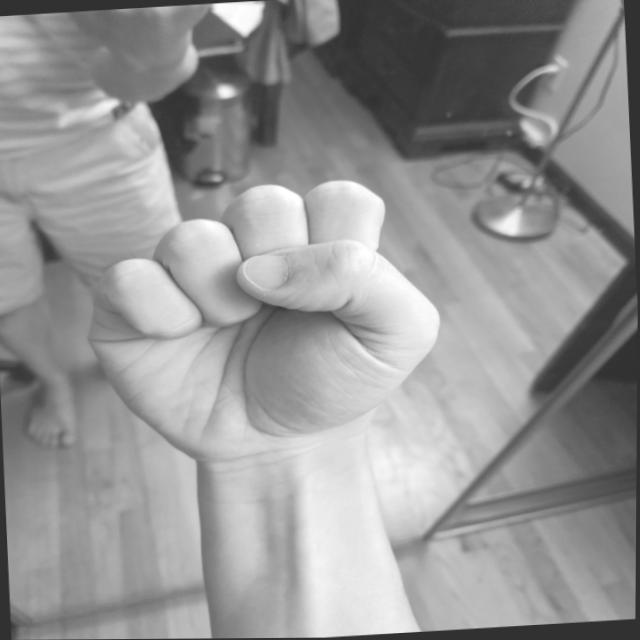S: (73, 168, 460, 478)
